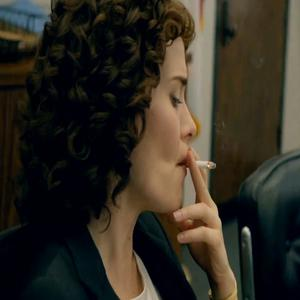cigarette: (184, 155, 221, 173)
